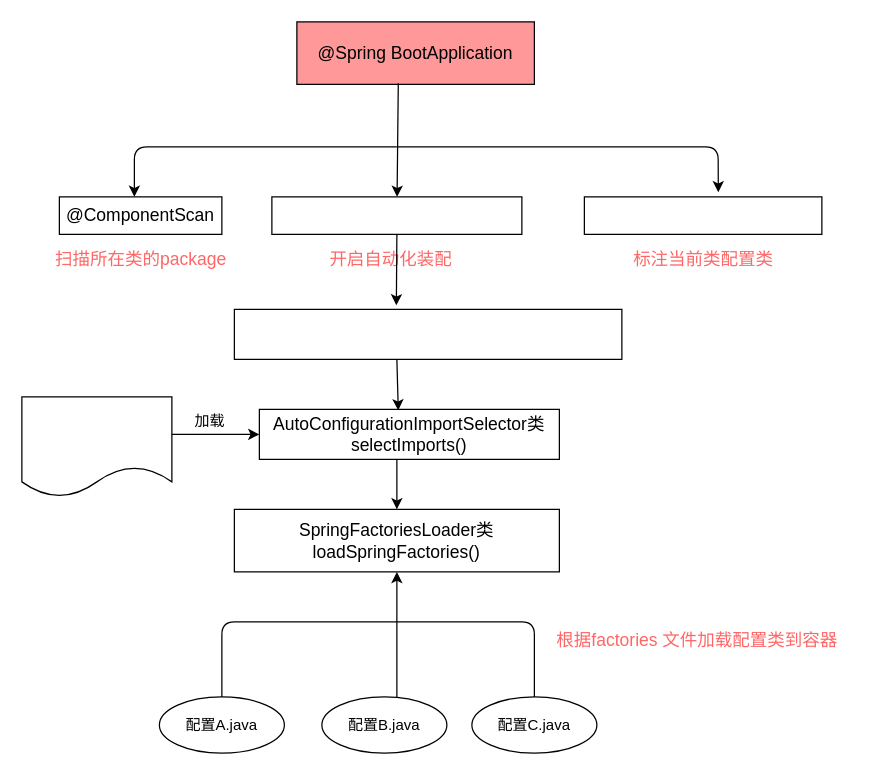
The diagram is 869 pixels wide and 775 high, and some of its shapes have lost their labels. The centre of each missing label's shape, as x and y in pixels:
"@EnableAutoConfiguration" belongs at (396,215).
"@Import(AutoConfigurationImportSelecto.class)" belongs at (427,333).
"@SpringBootConfiguration" belongs at (702,215).
"文件 spring.factories" belongs at (96,446).
